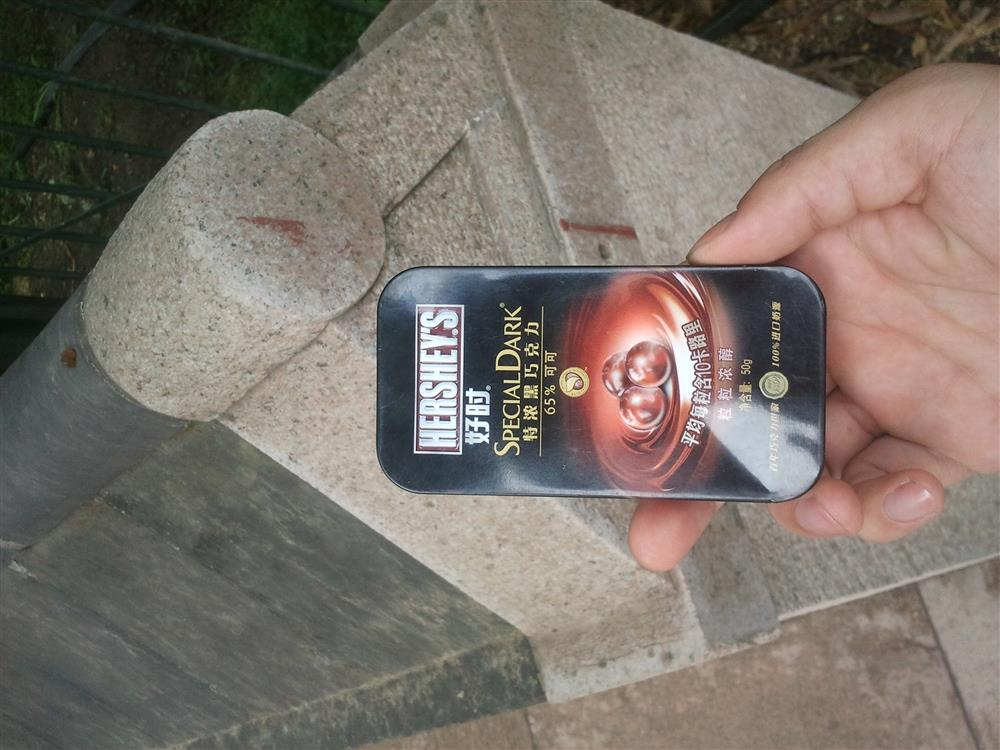hersheys: (363, 250, 844, 530)
